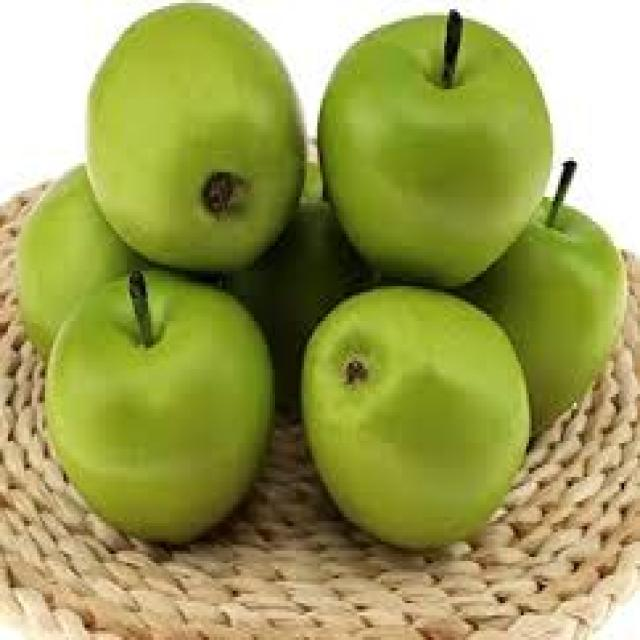50-_ripeness: (306, 5, 554, 277), (31, 263, 276, 530), (79, 3, 307, 267), (304, 291, 536, 533), (461, 197, 629, 412), (19, 154, 143, 359)
